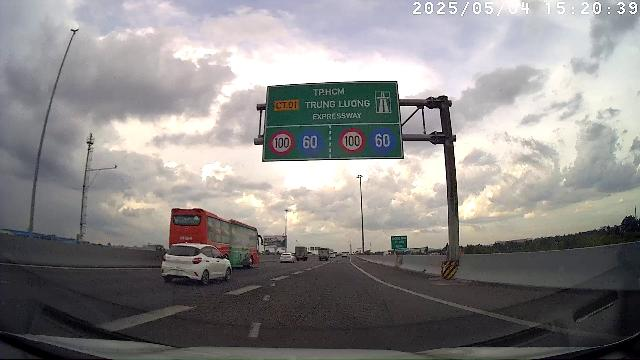127-toc-do-toi-da-100: (268, 128, 296, 156), (338, 127, 366, 154)
306-toc-do-toi-thieu-60: (298, 128, 324, 156), (370, 127, 396, 153)
437-bat-dau-duong-cao-toc: (374, 90, 392, 114)
